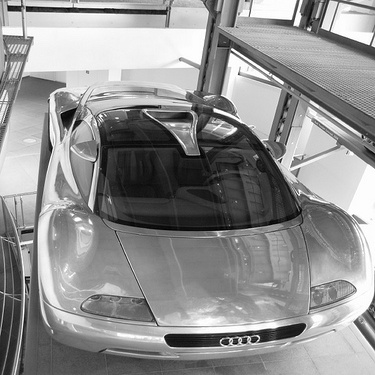car: (40, 75, 375, 360)
